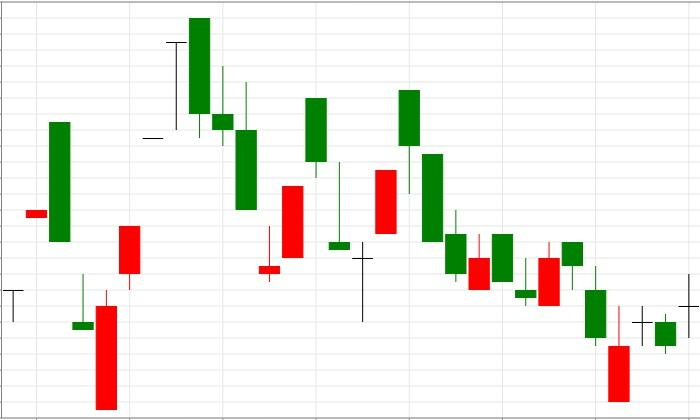three_black_crows_fall: (96, 17, 257, 411)
